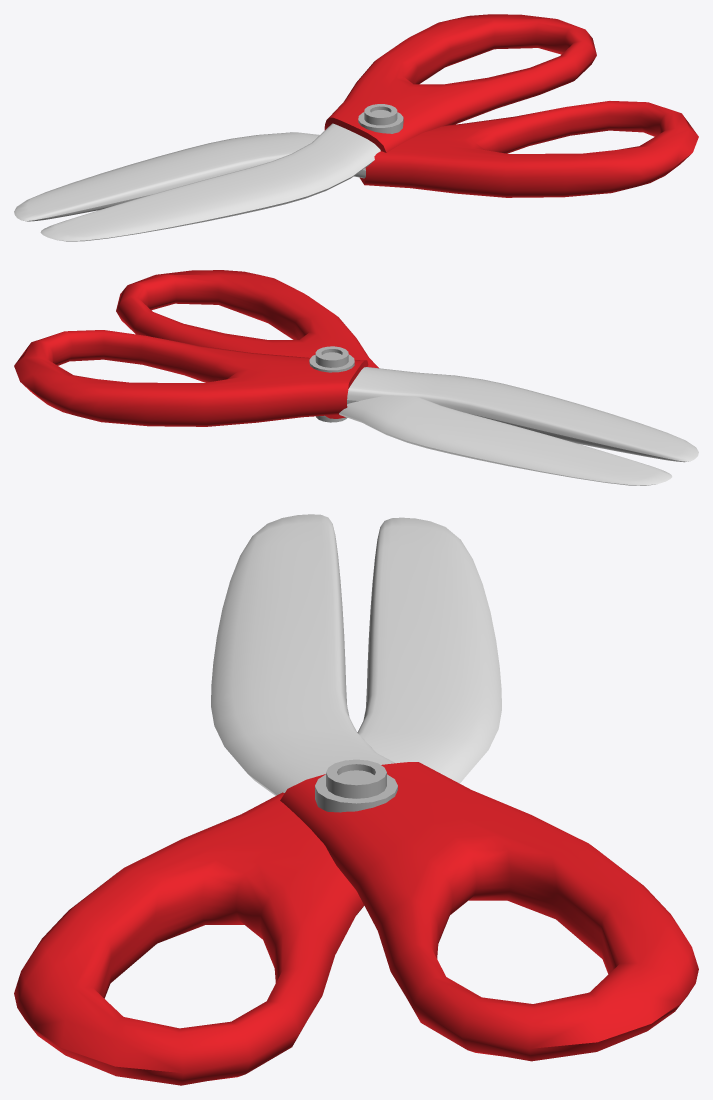
File: Scissors02.fbx
The picture shows the model from 3 angles, top to bottom: view 1: azimuth 30°, elevation 25°; view 2: azimuth 150°, elevation 25°; view 3: azimuth 270°, elevation 25°; orthographic projection. The views are drawn at different scales.
Visible parts, largest first — view 1: Scissors02; view 2: Scissors02; view 3: Scissors02.
Boxes of the visible parts, x1,y1,x2,y2 form: Scissors02: (14, 14, 698, 241); Scissors02: (14, 270, 698, 485); Scissors02: (14, 514, 698, 1085).
Bounding box in the file's own units: 0.1779 × 0.0951 × 0.0173.
